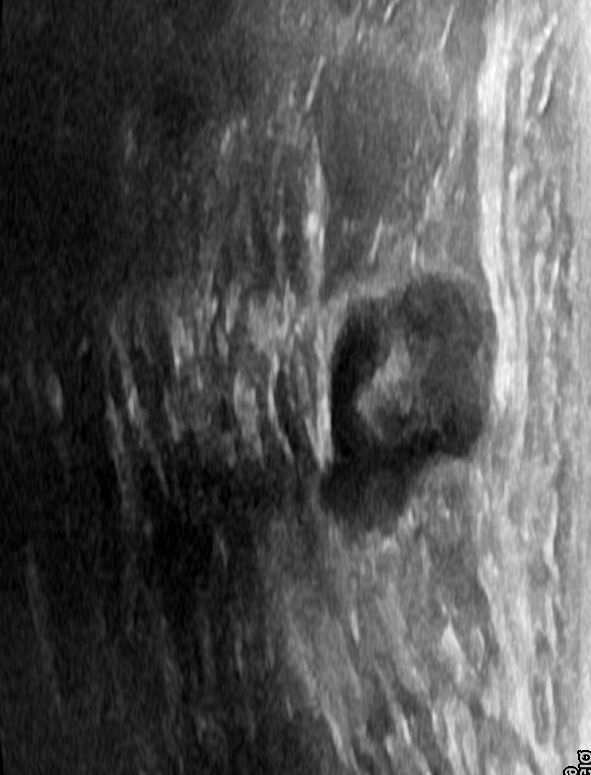Benign: (324, 276, 503, 487)
